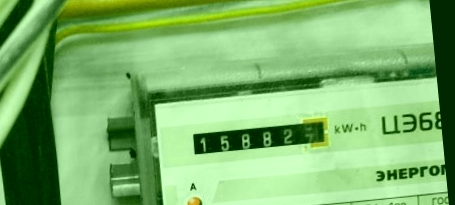1: (198, 135, 208, 151)
2: (281, 126, 293, 143)
5: (219, 133, 230, 149)
7: (304, 131, 314, 142)
8: (261, 129, 272, 146), (240, 132, 251, 148)
screen: (185, 111, 336, 164)
